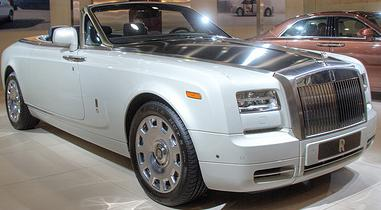front_view: (211, 57, 366, 173)
headlight: (229, 88, 290, 128)
